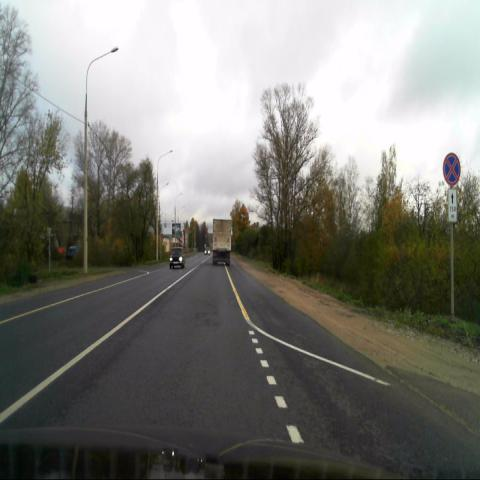8_2_2: (448, 190, 458, 224)
